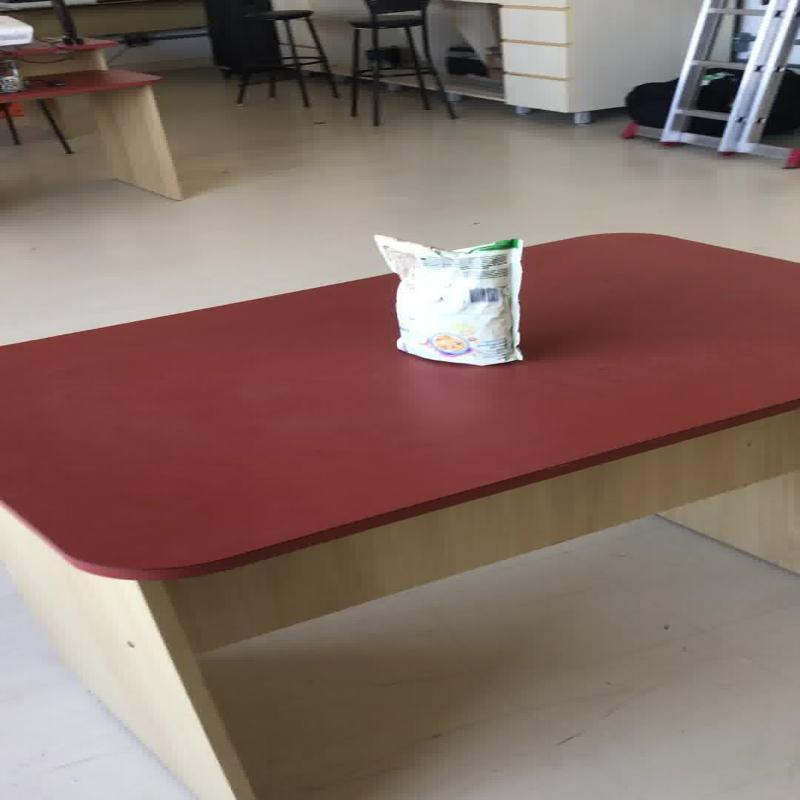corn flakes: (372, 233, 524, 366)
